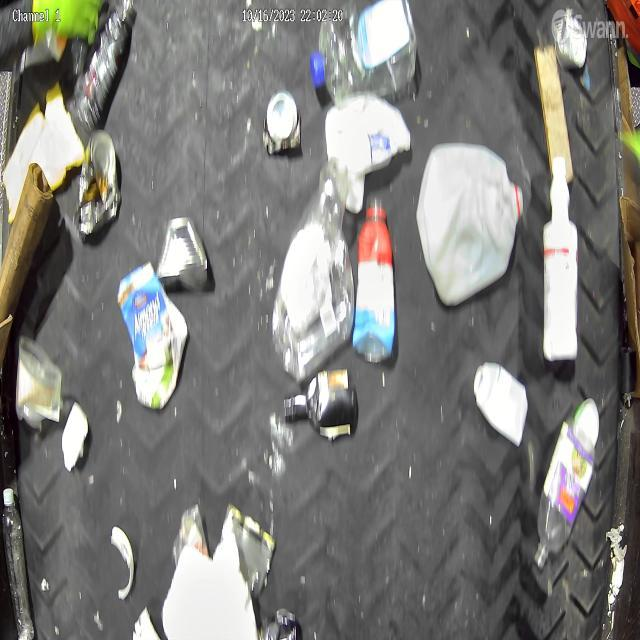can: (218, 501, 278, 598), (72, 126, 121, 244), (154, 214, 212, 296), (262, 89, 303, 156), (553, 15, 590, 70), (276, 603, 298, 640)
milk_jug: (415, 140, 526, 309), (324, 92, 412, 218)
non_white_jug: (272, 158, 354, 384)
plastic_bottle: (310, 0, 418, 105)
